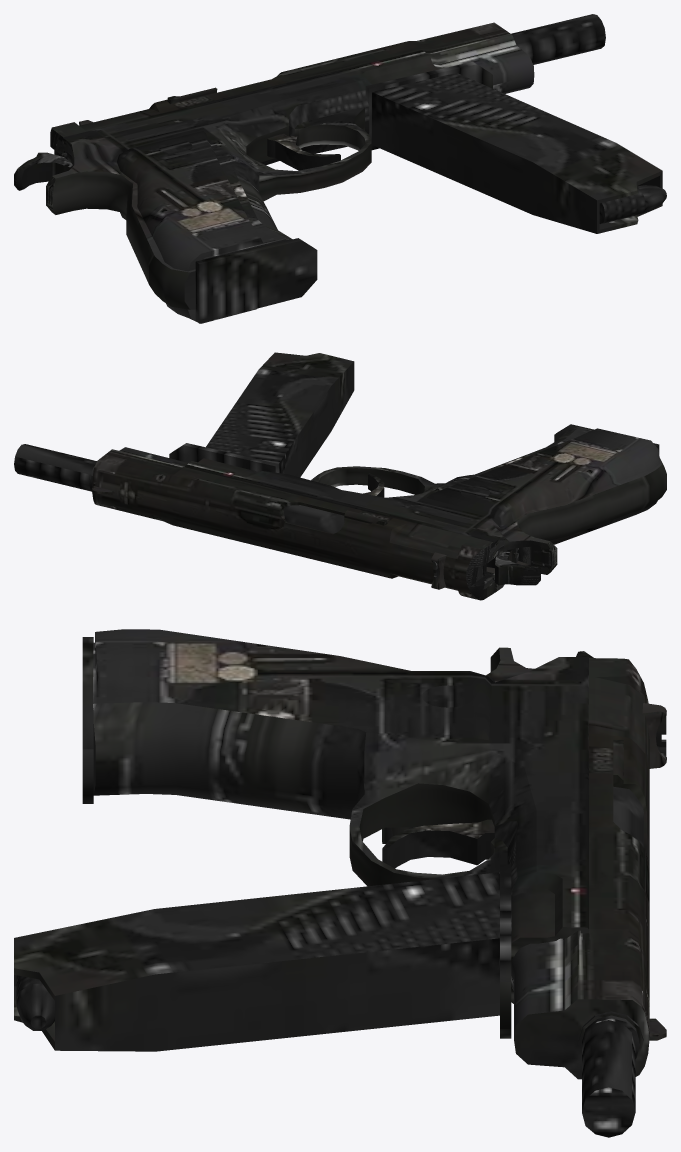
The model's file is t5_weapon_cz75_dw_lh_viewmodel.glb.
3 views of the same model, one above another, from view 1: azimuth 30°, elevation 25°; view 2: azimuth 150°, elevation 25°; view 3: azimuth 270°, elevation 25° (orthographic). The views are drawn at different scales.
Visible parts, largest first — view 1: t5_weapon_cz75_dw_lh_viewmodel; view 2: t5_weapon_cz75_dw_lh_viewmodel; view 3: t5_weapon_cz75_dw_lh_viewmodel.
Part boxes in pixels (x1=…): t5_weapon_cz75_dw_lh_viewmodel: x1=14, y1=14, x2=666, y2=323; t5_weapon_cz75_dw_lh_viewmodel: x1=14, y1=352, x2=666, y2=600; t5_weapon_cz75_dw_lh_viewmodel: x1=14, y1=629, x2=666, y2=1137.
Size of the model in its own units: 0.2385 by 0.0309 by 0.1478.
Materials: 1 (1 with a texture image).
